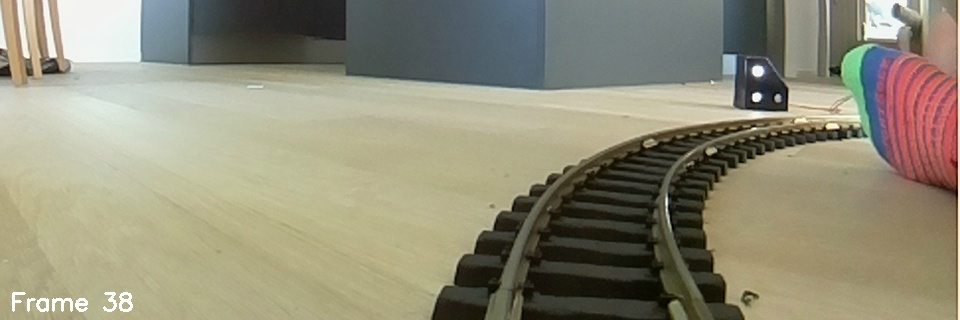Fahrt: (731, 50, 793, 114)
